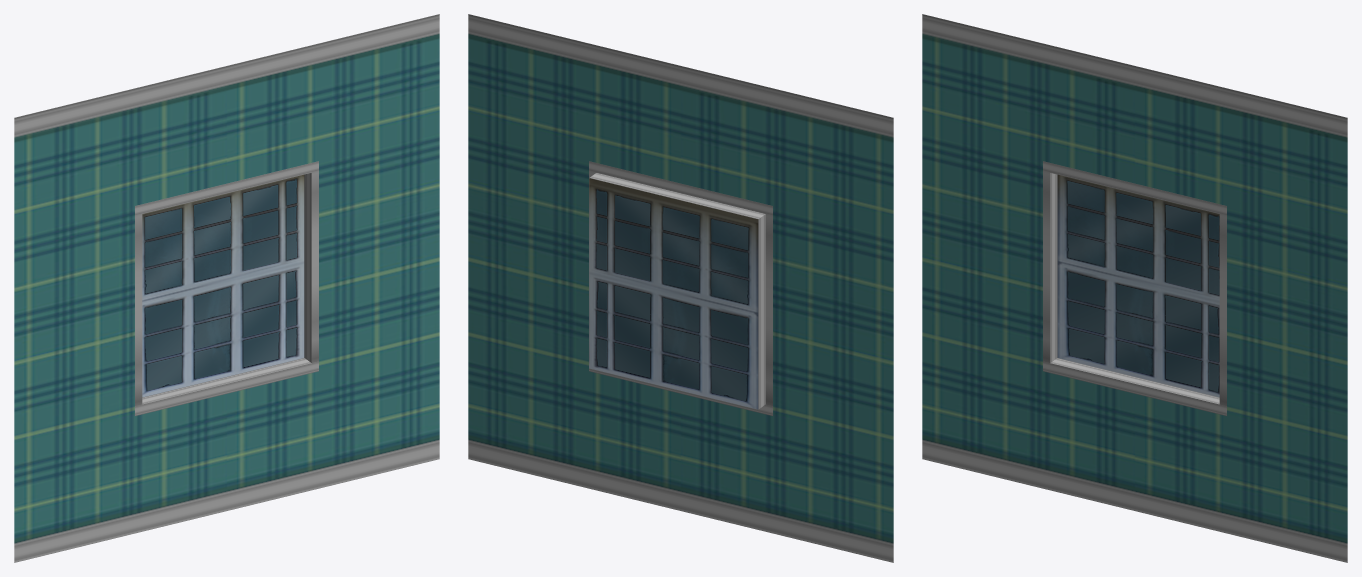
The model's file is wall_window.fbx.
3 views of the same model, side by side, from view 1: azimuth 30°, elevation 25°; view 2: azimuth 150°, elevation 25°; view 3: azimuth 330°, elevation 25° (orthographic).
Visible parts, largest first — view 1: wall_window; view 2: wall_window; view 3: wall_window.
Boxes of the visible parts, x1,y1,x2,y2 form: wall_window: (14, 14, 439, 562); wall_window: (468, 14, 893, 562); wall_window: (922, 14, 1347, 562).
Bounding box in the file's own units: 400 × 400 × 11.71.
2 materials, 2 textured.
